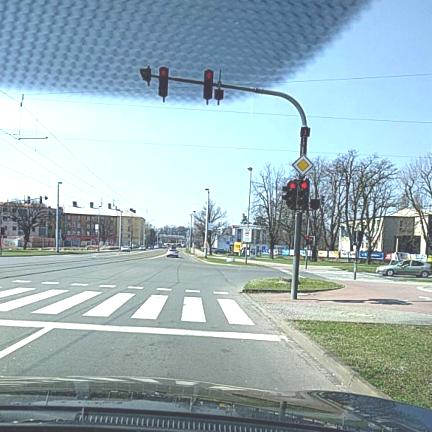Road: (0, 251, 343, 391)
